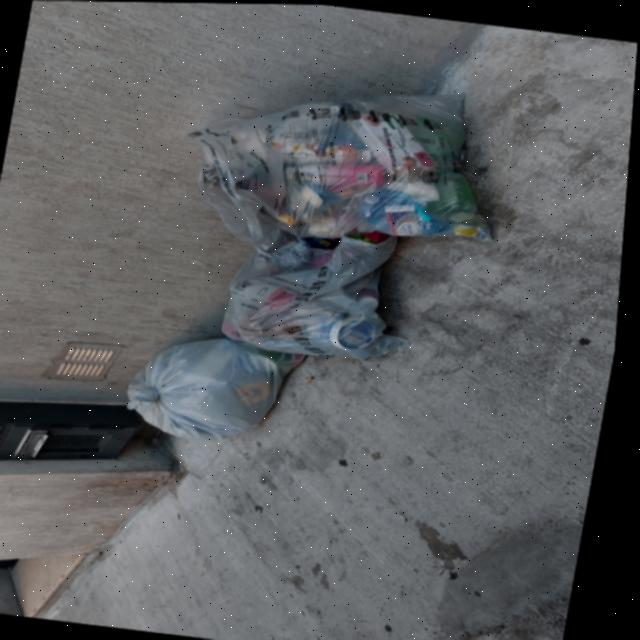Recycled Waste -Grey or Green Bag-: (171, 59, 523, 268), (220, 211, 432, 363), (124, 326, 314, 449)
